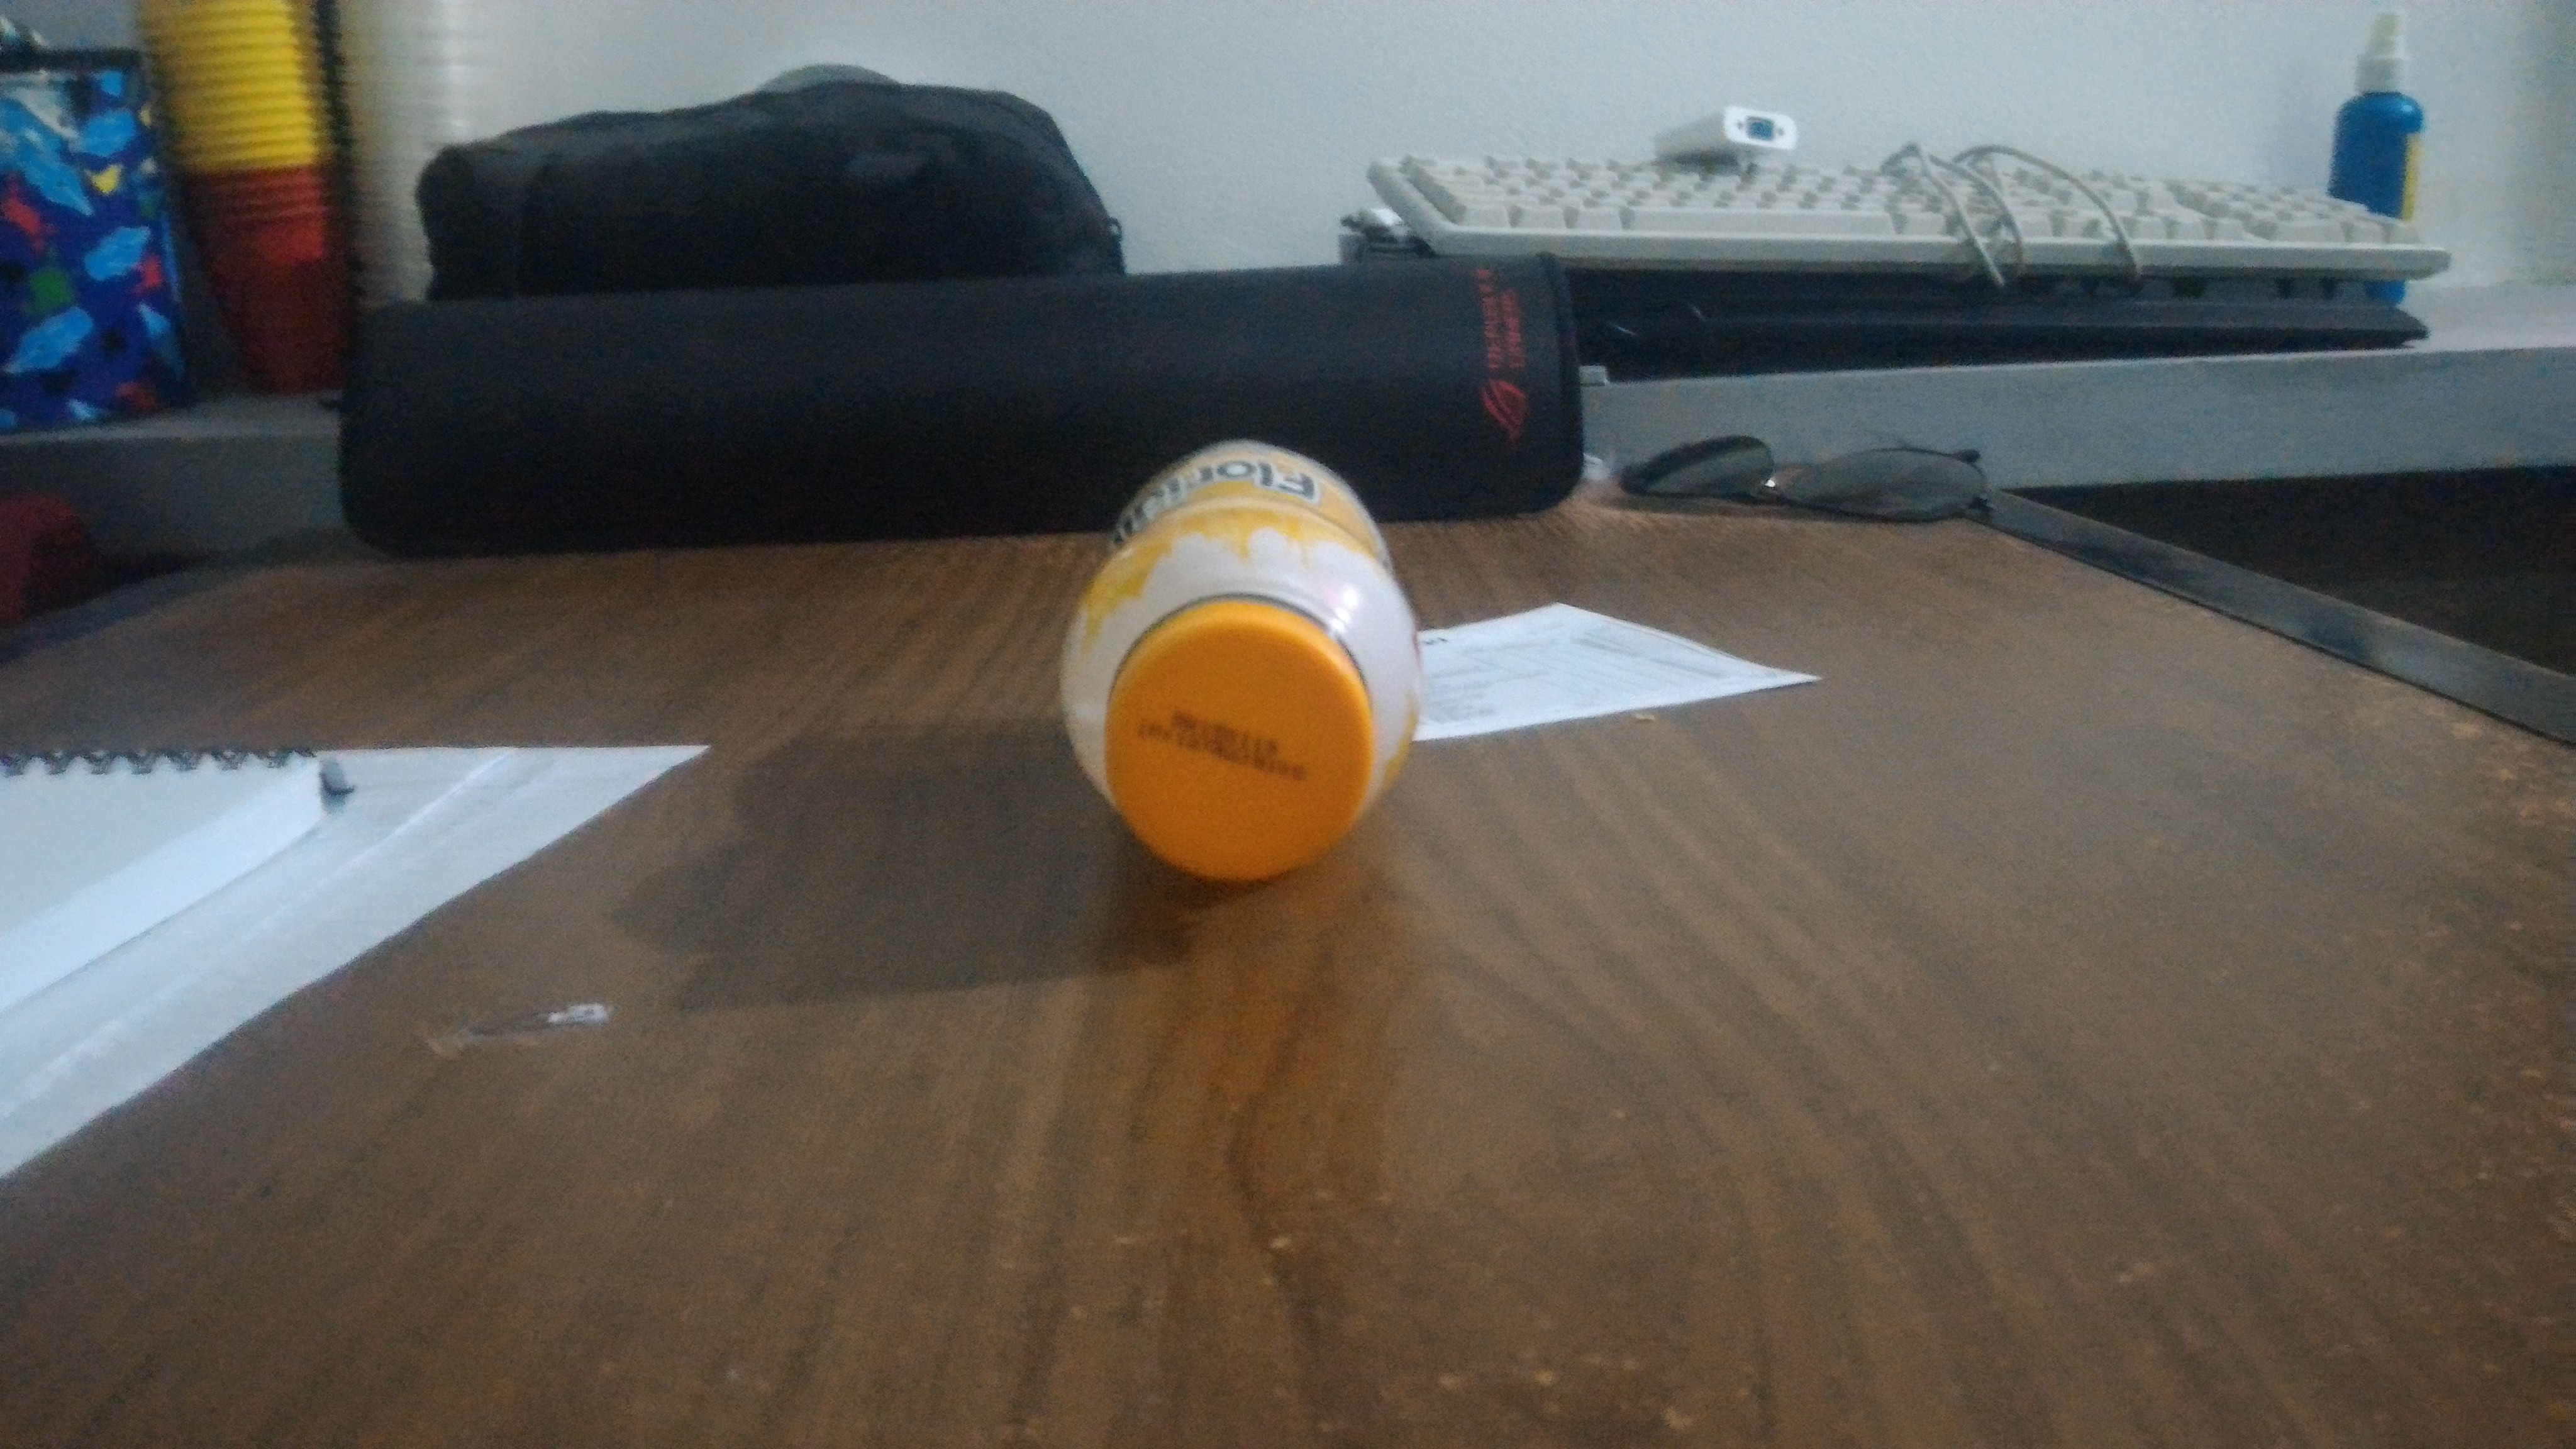botol: (1058, 437, 1422, 876), (1065, 437, 1422, 876)
